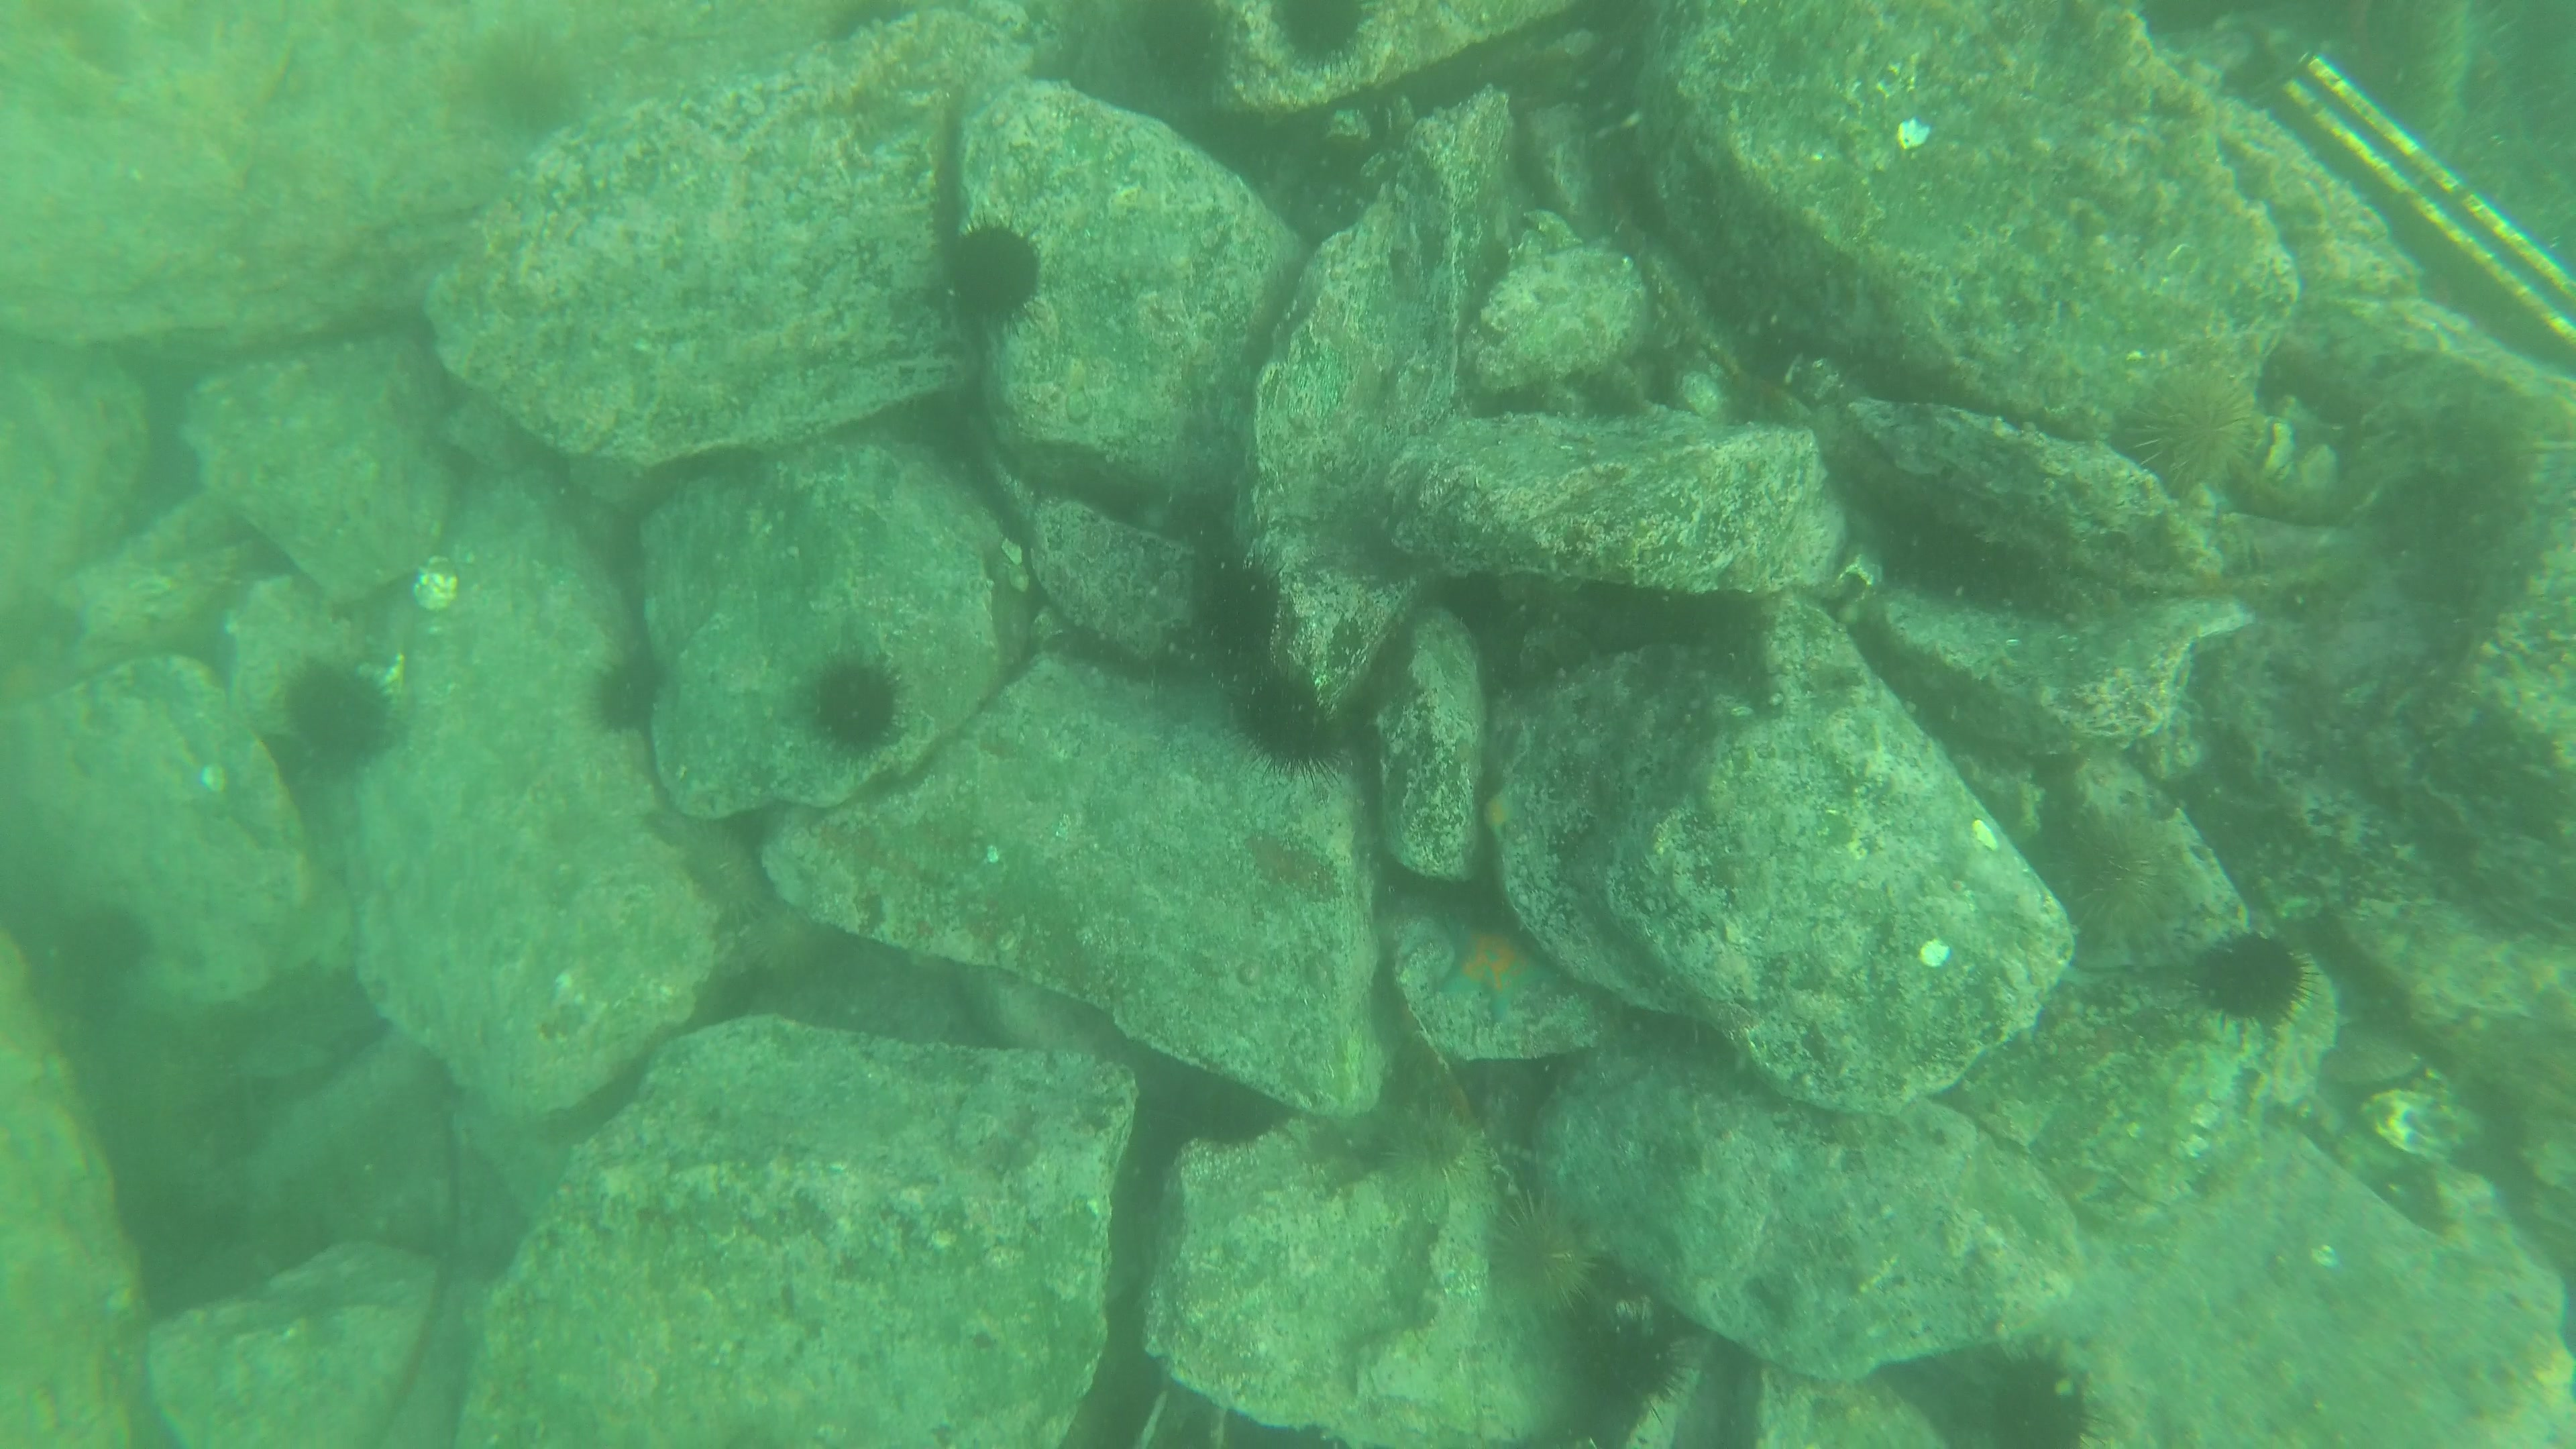echinus: (2134, 350, 2261, 492), (2185, 916, 2319, 1049), (1490, 1191, 1599, 1330), (1571, 1299, 1698, 1412), (938, 209, 1044, 340), (800, 655, 915, 771), (1180, 547, 1288, 671), (1375, 1102, 1486, 1219), (487, 30, 587, 149), (285, 656, 396, 763), (1240, 671, 1343, 771), (1267, 0, 1380, 69), (589, 646, 667, 731)
scallop: (2319, 1030, 2486, 1159)
starfish: (1431, 899, 1555, 1021), (1474, 777, 1520, 842)
